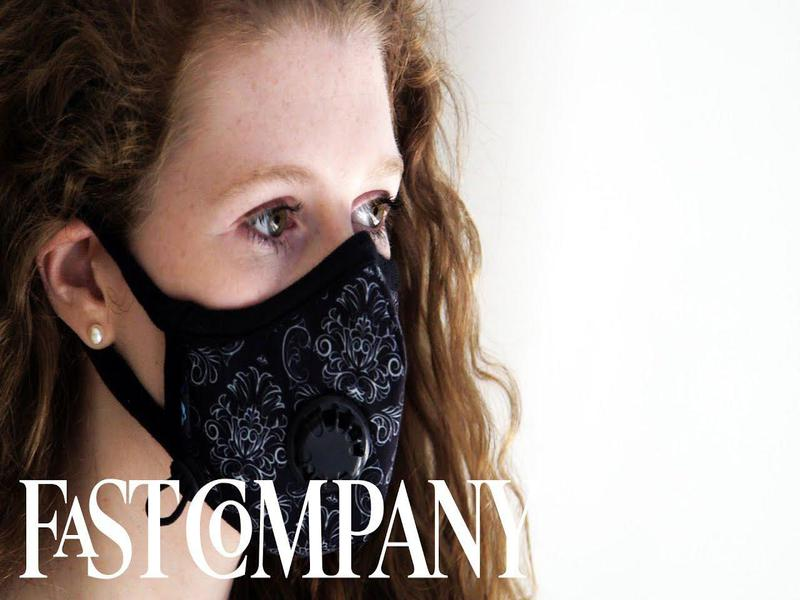with_mask: (47, 4, 413, 478)
